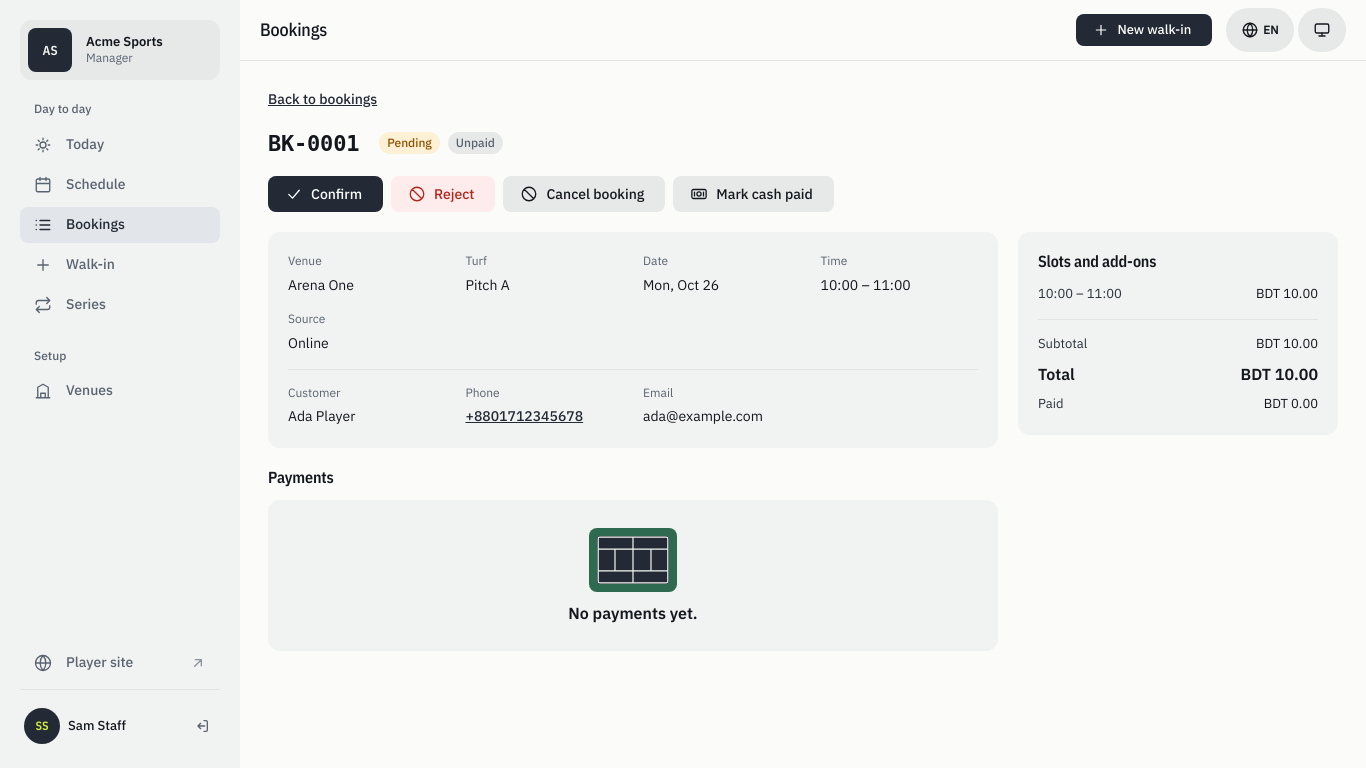
it: owner booking detail › confirm posts once even when double-clicked and updates the status
This screenshot has width=1366, height=768.
Double-click the button "Confirm": (326, 194) [268,176,383,212]
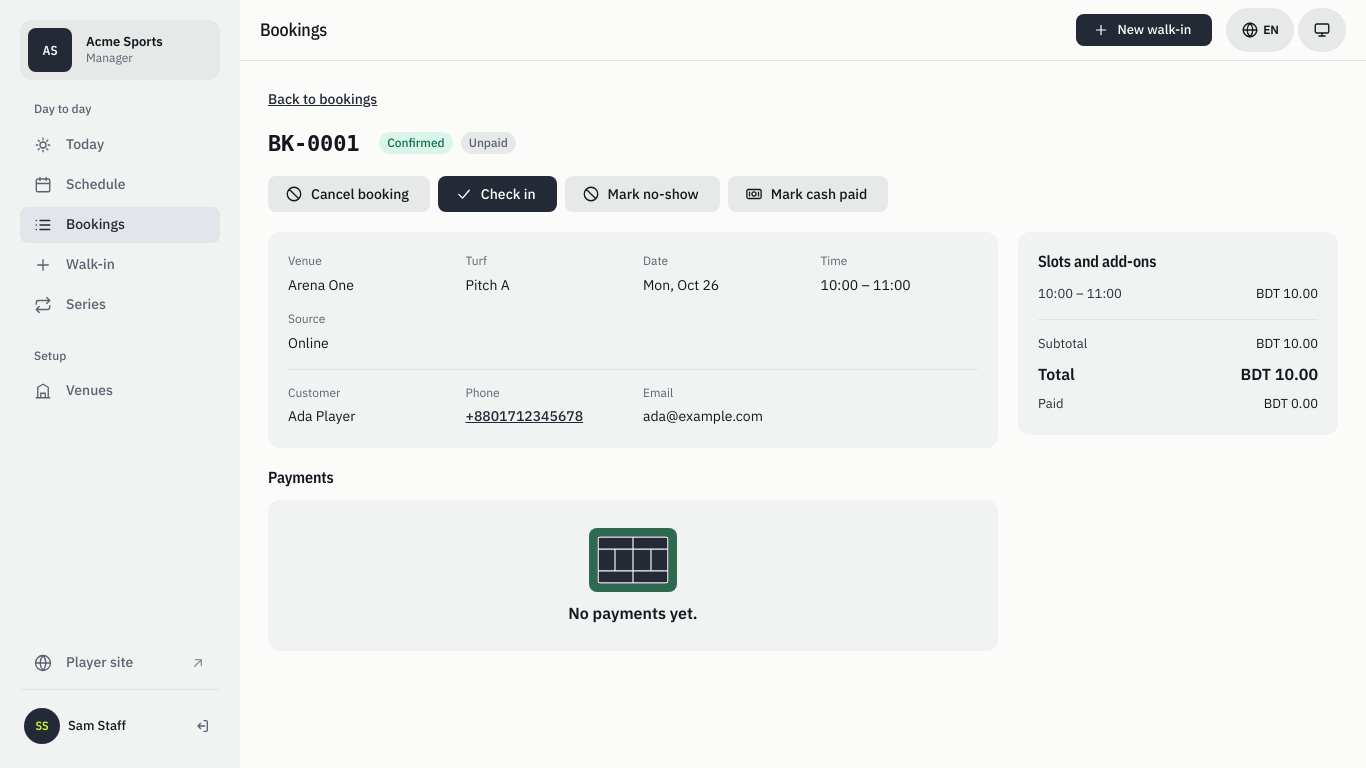
Now the text "Confirmed" is shown, box [379,132,453,154]
